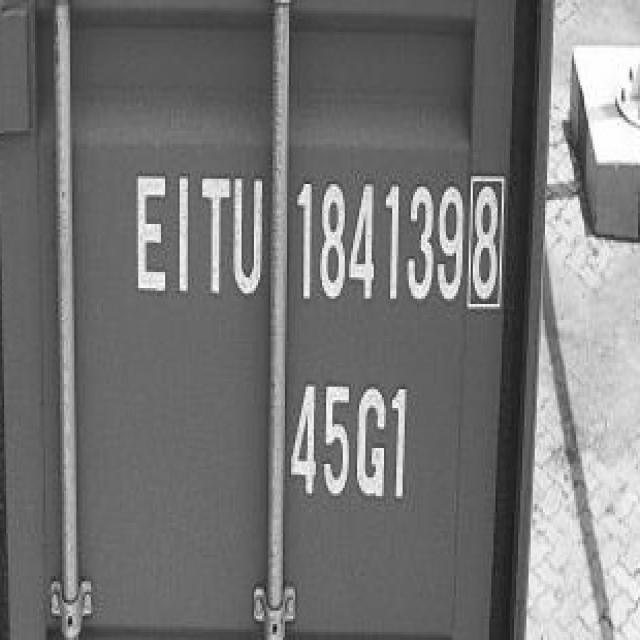dv: (468, 172, 507, 322)
owner: (131, 164, 266, 305)
serial: (291, 173, 464, 315)
size: (288, 373, 412, 513)
